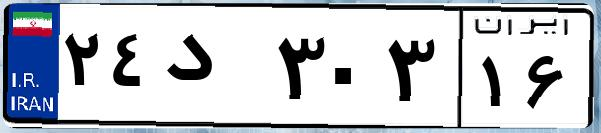0: (330, 28, 385, 110)
1: (475, 38, 525, 113)
2: (57, 26, 110, 100)
3: (270, 28, 330, 110), (385, 28, 445, 110)
4: (110, 28, 158, 98)
6: (525, 38, 570, 115)
د: (158, 20, 270, 120)
